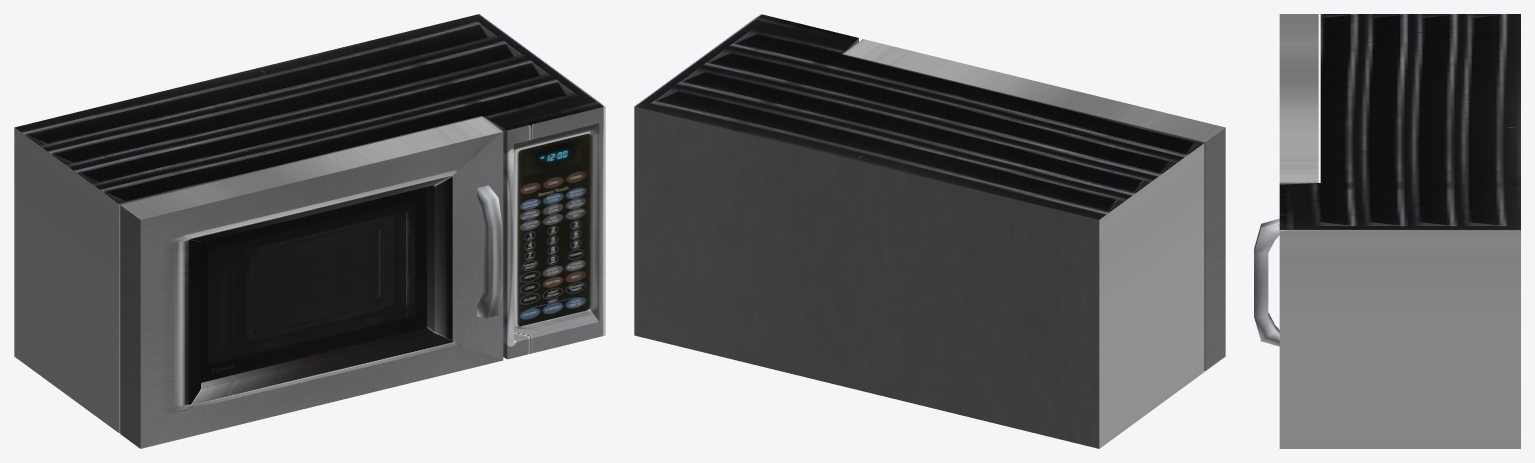
Rendered from microwave.fbx.
3 views of the same model, side by side, from view 1: azimuth 30°, elevation 25°; view 2: azimuth 150°, elevation 25°; view 3: azimuth 270°, elevation 25° (orthographic). The views are drawn at different scales.
Visible parts, largest first — view 1: body, door, handle; view 2: body, door; view 3: body, door, handle.
Part boxes in pixels (box(x1,y1,x2,y2)): body: box(14, 14, 605, 433); door: box(120, 116, 503, 448); handle: box(477, 185, 502, 318); body: box(634, 14, 1204, 448); door: box(842, 39, 1225, 371); body: box(1279, 14, 1520, 448); door: box(1279, 14, 1318, 184); handle: box(1254, 218, 1279, 346).
Size of the model in its own units: 2.13 by 1 by 1.11.
Materials: 1 (1 with a texture image).
